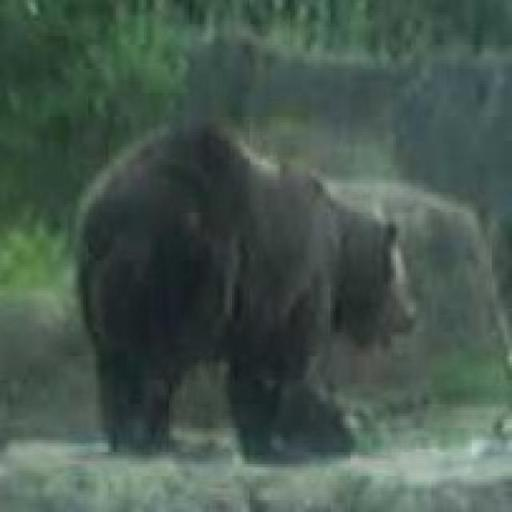Bear: (70, 117, 510, 464)
